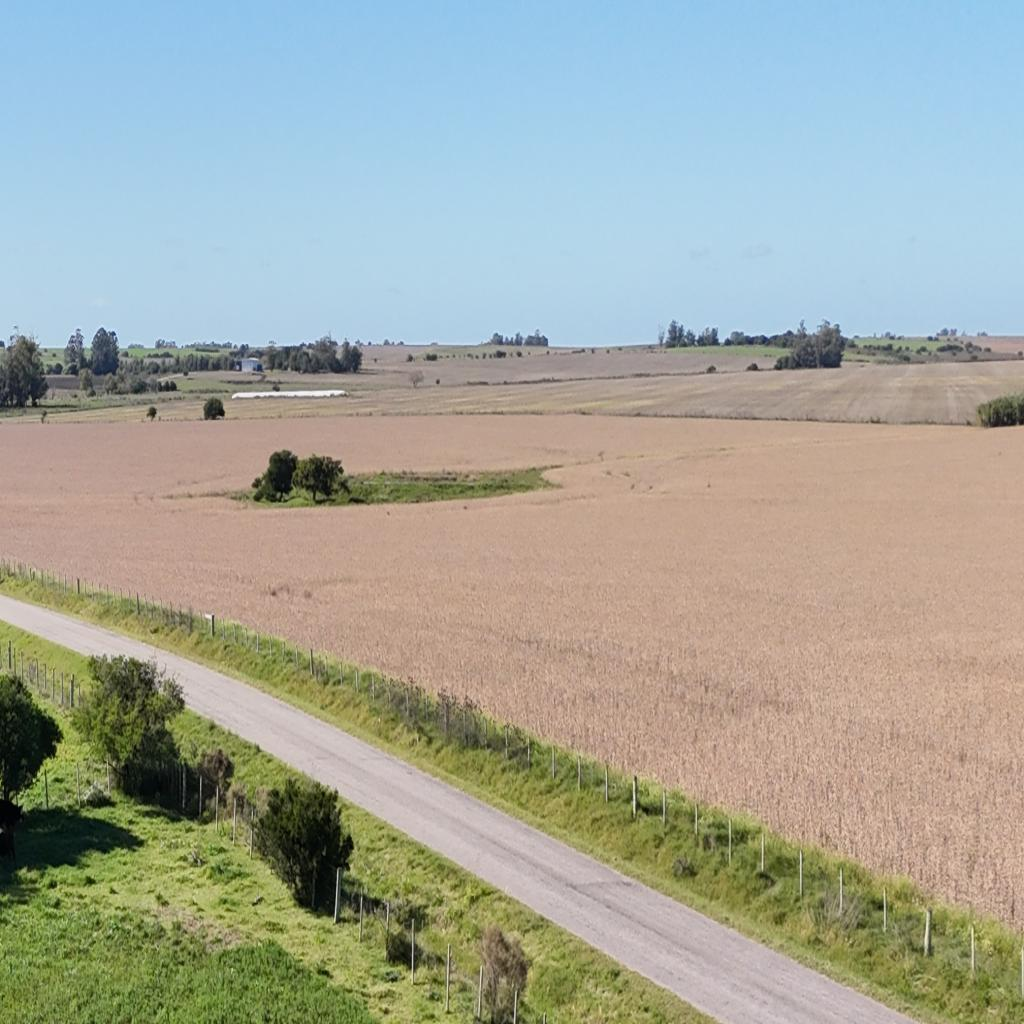cow: (0, 793, 25, 866)
